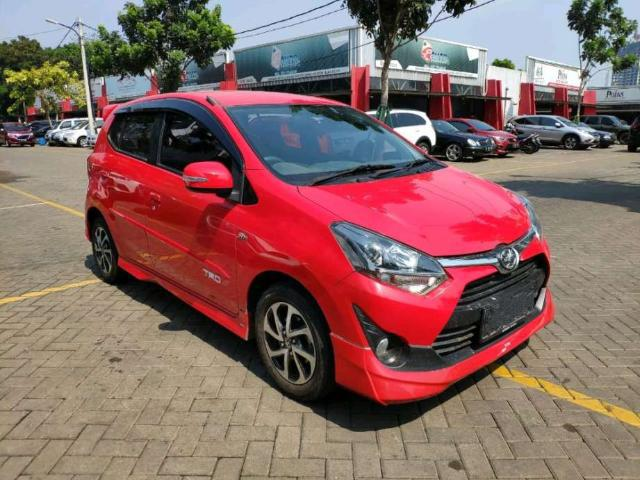mobil: (68, 78, 569, 415)
plat: (466, 281, 549, 342)
